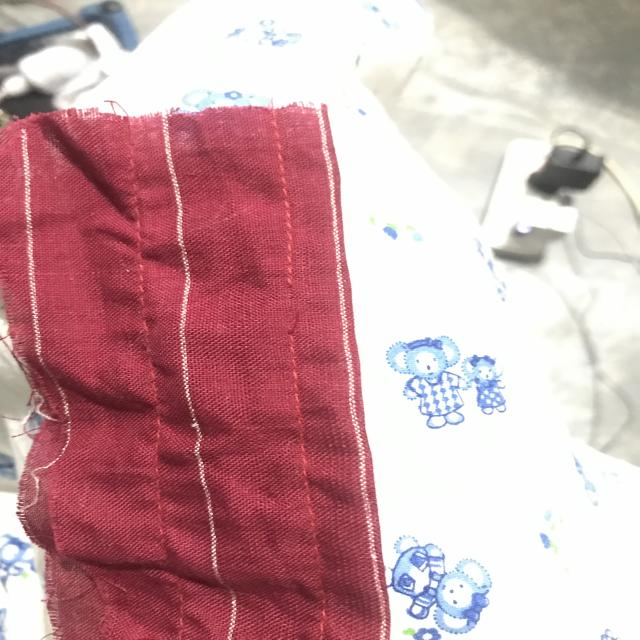broken: (271, 270, 316, 358)
good: (266, 158, 305, 250), (276, 367, 314, 450)
